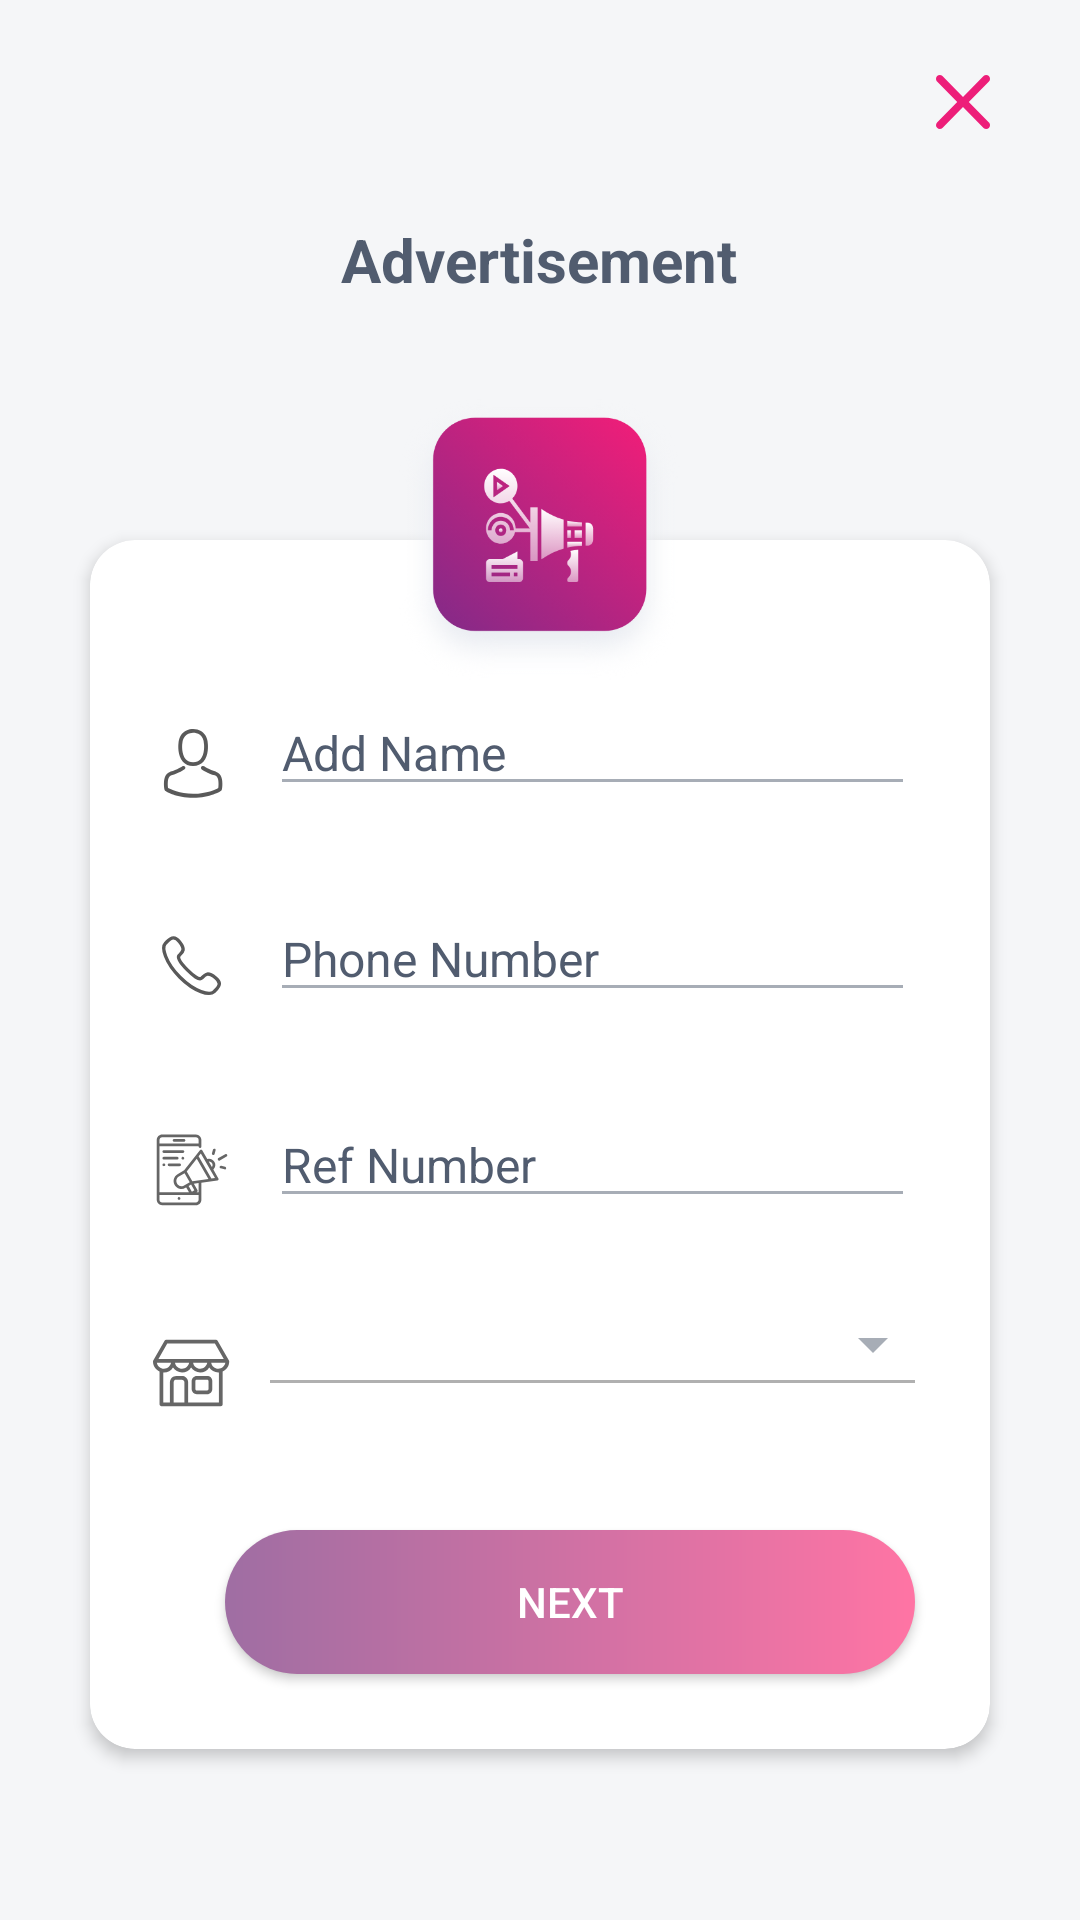

Named icons in this screenshot (1080w x 1920h) and their centers, (x,y):
cal: (191,965)
close: (963,102)
shop: (191,1373)
